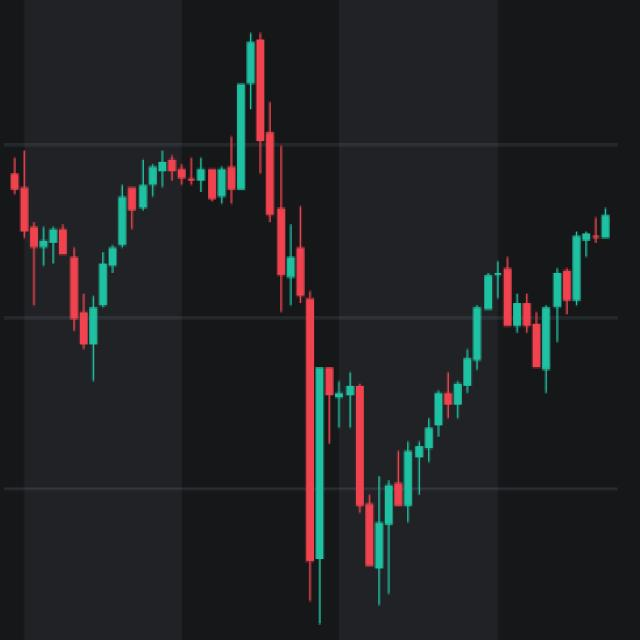Ascending-Triangle: (4, 145, 323, 416)
Rising-Wedge: (271, 169, 619, 640)
